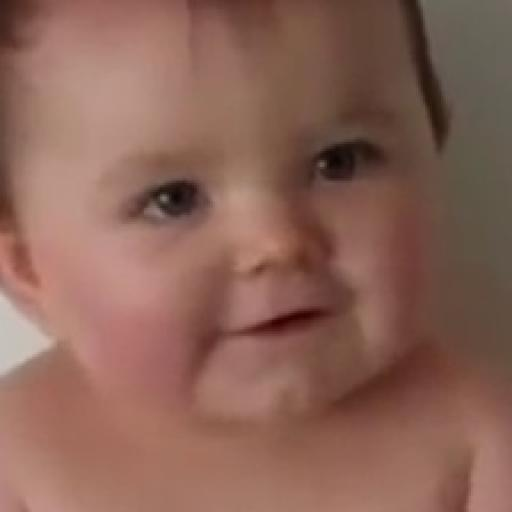Autism: (11, 6, 497, 509)
